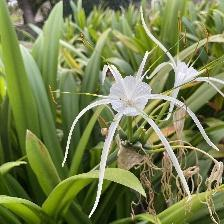spider lily: (61, 50, 220, 220)
